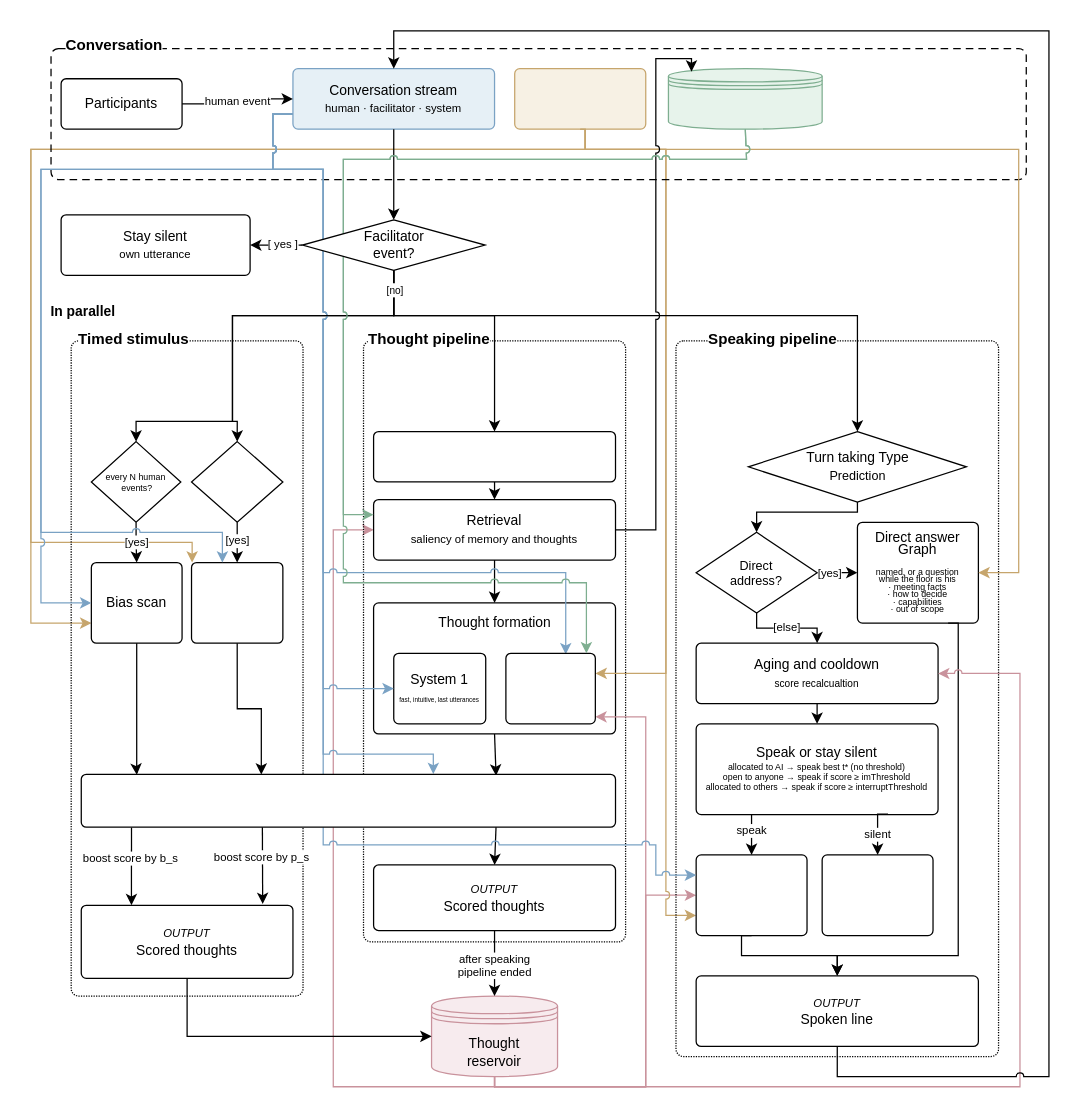
The diagram is 1081 pixels wide and 1119 high, and some of its shapes have lost their labels. The shapes that lost their labels are listed below. From the top down, each one's centre as x and y in pixels, then its label:
At pixel 579 98: "Meeting brief".
At pixel 744 98: "Short-term".
At pixel 494 456: "Interpret and embed".
At pixel 236 481: "every N words & if unbalanced?".
At pixel 236 602: "Participation scan".
At pixel 550 688: "System 2 slow, deliberate, retrieved context".
At pixel 348 800: "Thought evaluation".
At pixel 751 895: "Utterance formation the best thought".
At pixel 877 895: "Stay silent below threshold".
